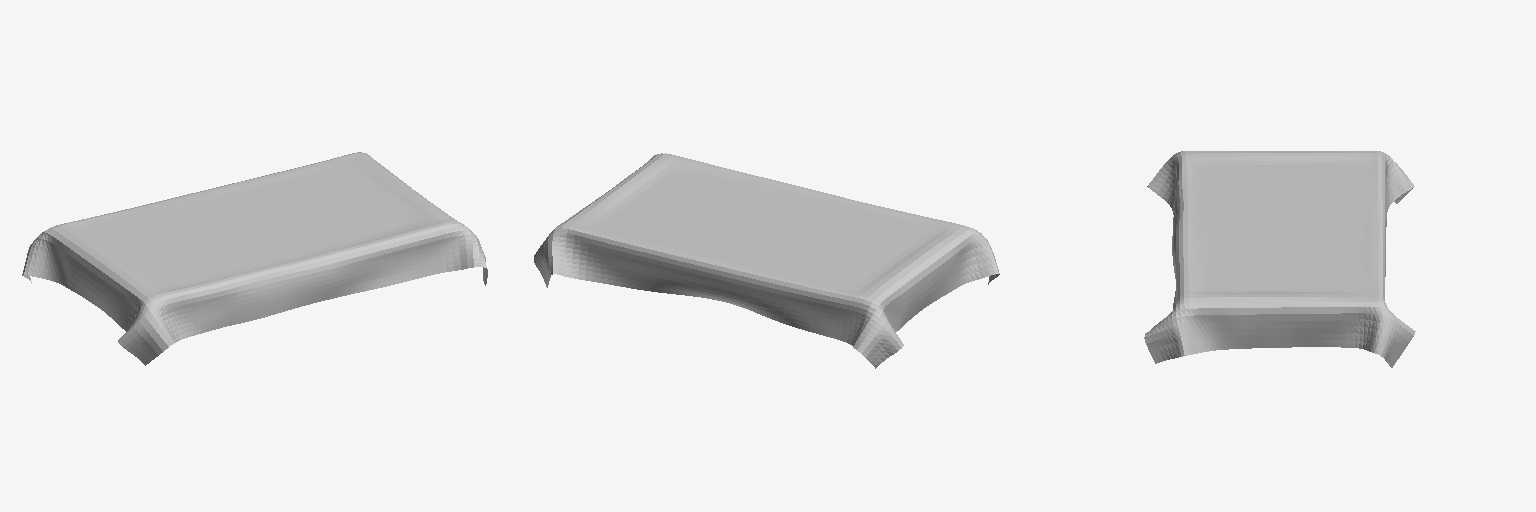
The model's file is panch_table01.obj.
3 renders of one model, left to right at view 1: azimuth 30°, elevation 25°; view 2: azimuth 150°, elevation 25°; view 3: azimuth 270°, elevation 25°, orthographic.
Visible parts, largest first — view 1: P_table_mdl; view 2: P_table_mdl; view 3: P_table_mdl.
Part boxes in pixels (left/top/right/bottom): P_table_mdl: left=22, top=152, right=487, bottom=365; P_table_mdl: left=534, top=153, right=999, bottom=368; P_table_mdl: left=1144, top=151, right=1415, bottom=367.
Size of the model in its own units: 28.58 by 4.71 by 18.21.